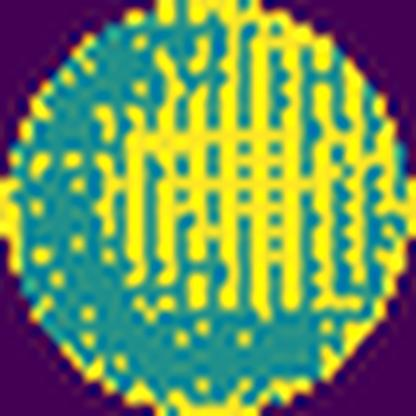Random: (78, 0, 416, 323)
